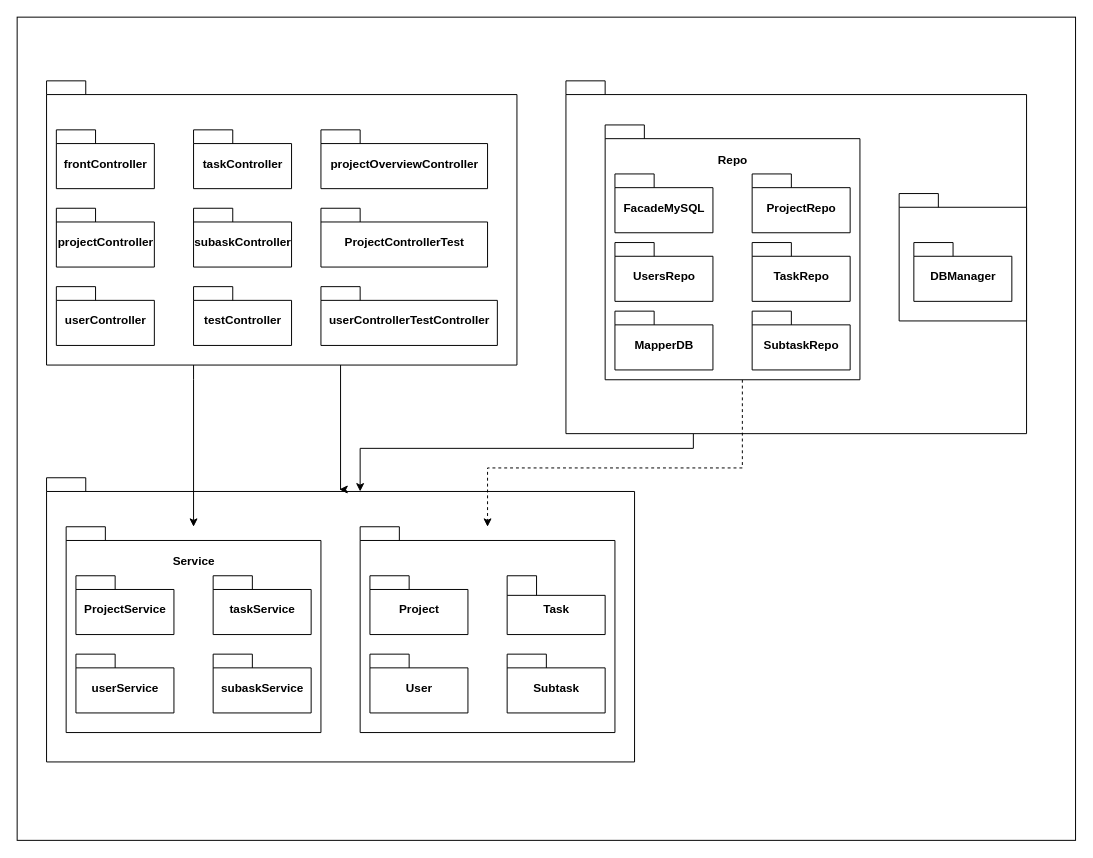
The diagram is 1093 pixels wide and 858 high, and some of its shapes have lost their labels. The box of each missing label's shape, as (x1, y1, x2, y2) in pixels:
Controllers: (46, 80, 517, 365)
Data: (565, 80, 1027, 434)
Domain: (46, 477, 635, 762)
Models: (359, 526, 615, 733)
Utility: (898, 193, 1027, 321)
